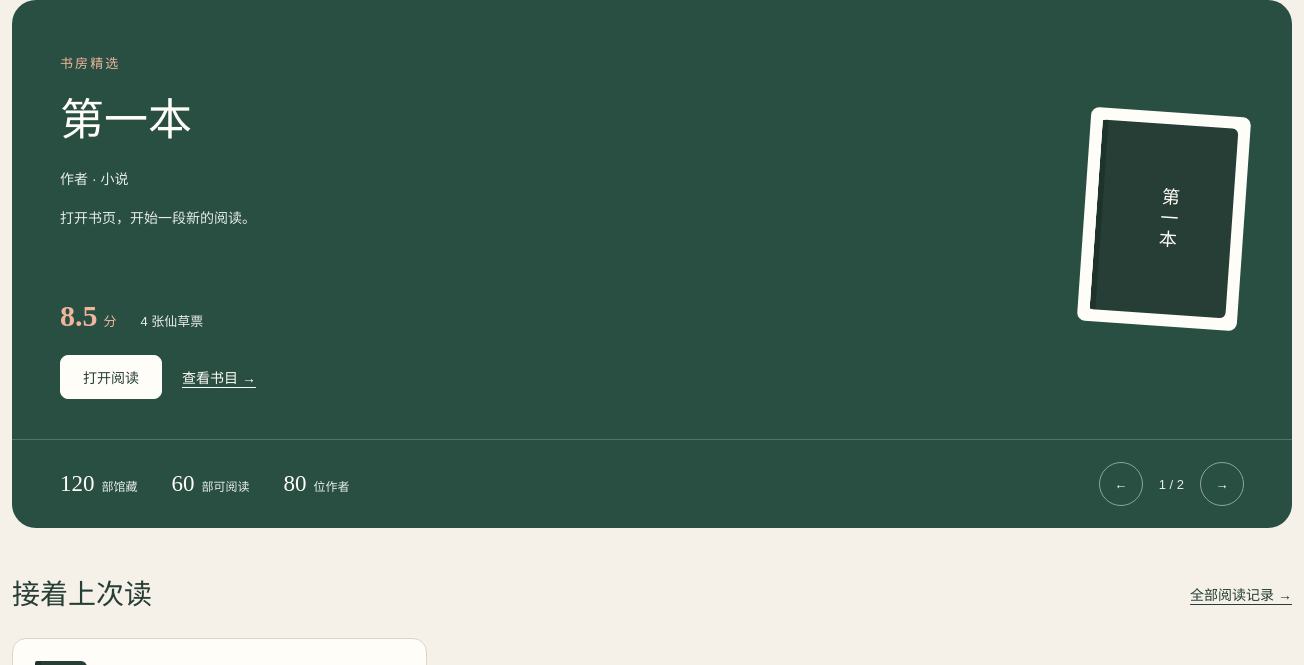
Scenario: opens recent reading without forcing the server chapter over a newer local position
The width and height of the screenshot is (1304, 665).
Click the button named "下一本精选". click: (1222, 484)
box: 1200,462 -> 1244,506
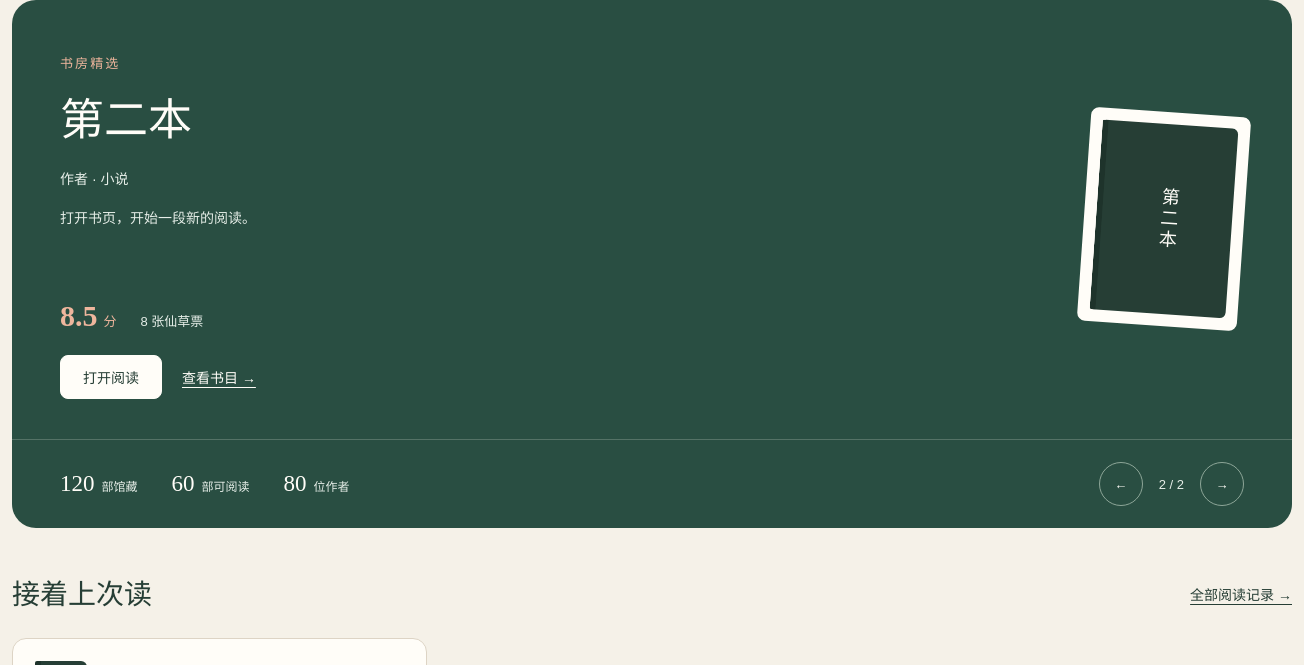
expect the heading "第二本" is shown: met, box 60,96 -> 192,145
expect the text "8 张仙草票" is shown: met, box 140,311 -> 203,330
